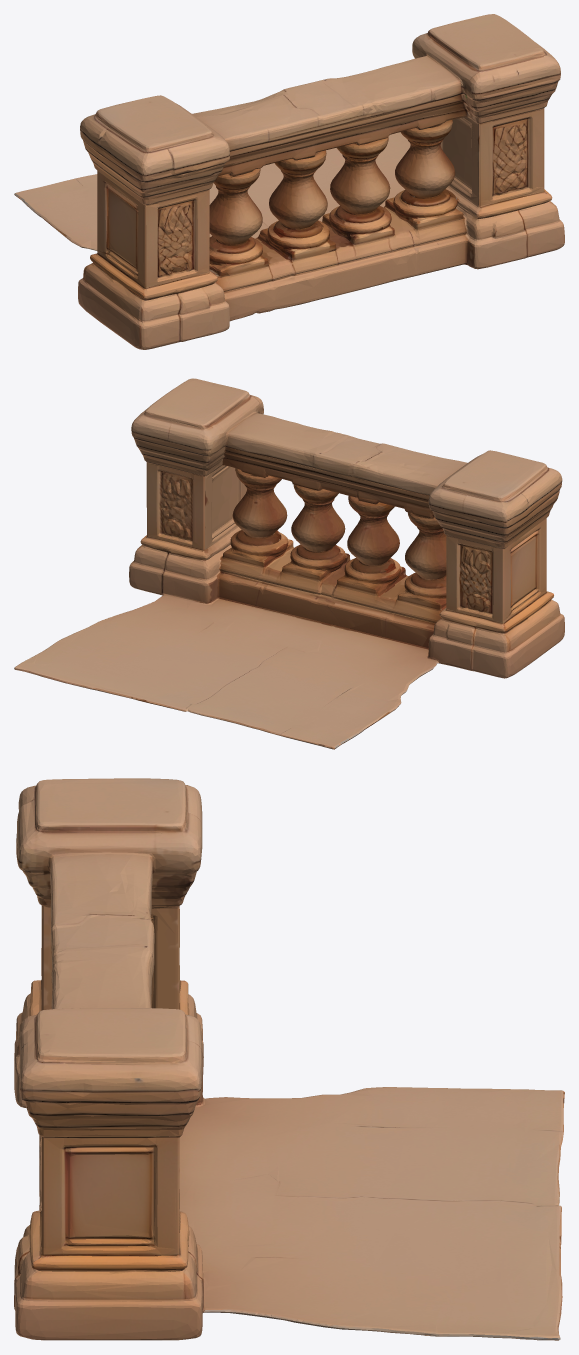
File: balustrade-railing-segment-optimized.glb
3 views of the same model, one above another, from view 1: azimuth 30°, elevation 25°; view 2: azimuth 150°, elevation 25°; view 3: azimuth 270°, elevation 25° (orthographic). The views are drawn at different scales.
Parts seen in each view (by area): view 1: cb1eeb17-eb43-410f-a17c-cd53867df7f5_texturing.obj; view 2: cb1eeb17-eb43-410f-a17c-cd53867df7f5_texturing.obj; view 3: cb1eeb17-eb43-410f-a17c-cd53867df7f5_texturing.obj.
Boxes of the visible parts, x1,y1,x2,y2 form: cb1eeb17-eb43-410f-a17c-cd53867df7f5_texturing.obj: [14, 14, 564, 349]; cb1eeb17-eb43-410f-a17c-cd53867df7f5_texturing.obj: [14, 378, 564, 749]; cb1eeb17-eb43-410f-a17c-cd53867df7f5_texturing.obj: [14, 778, 564, 1340].
Size of the model in its own units: 2.5 by 1.11 by 1.97.
Materials: 1 (1 with a texture image).
